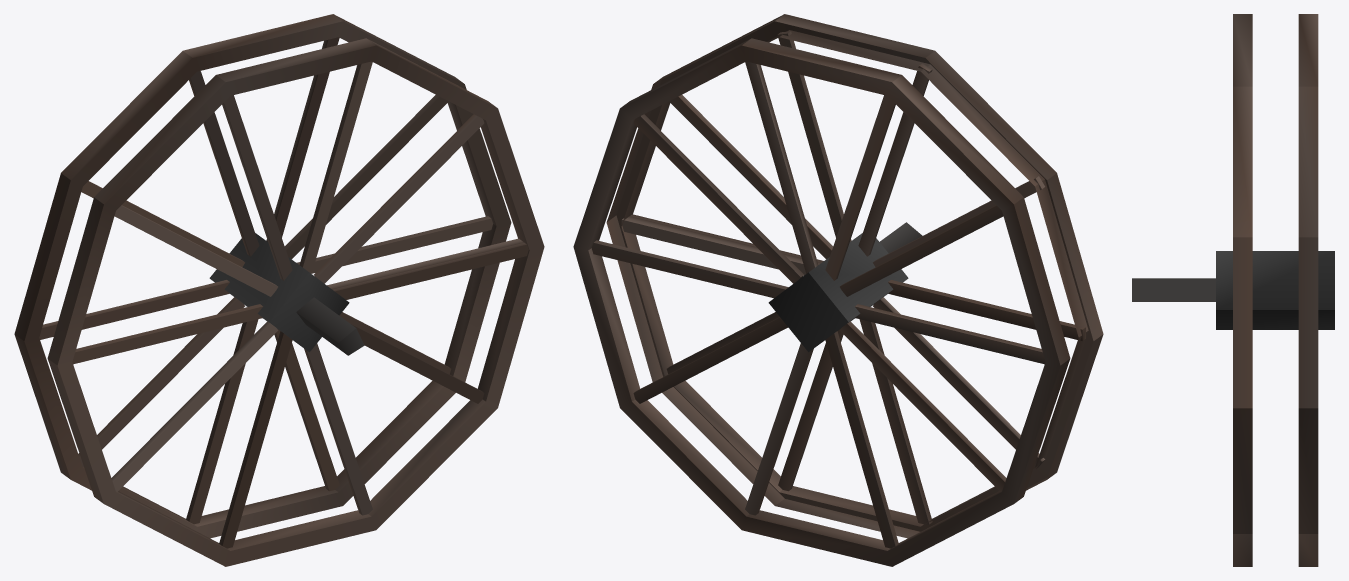
File: Prop_WaterWheelLOD1.fbx
3 renders of one model, left to right at view 1: azimuth 30°, elevation 25°; view 2: azimuth 150°, elevation 25°; view 3: azimuth 270°, elevation 25°, orthographic.
Visible parts, largest first — view 1: Prop_WaterWheelLOD1; view 2: Prop_WaterWheelLOD1; view 3: Prop_WaterWheelLOD1.
Part boxes in pixels (box(x1,y1,x2,y2)): Prop_WaterWheelLOD1: box(14, 14, 544, 566); Prop_WaterWheelLOD1: box(573, 14, 1103, 566); Prop_WaterWheelLOD1: box(1132, 14, 1334, 566).
Size of the model in its own units: 424 by 404 by 154.
